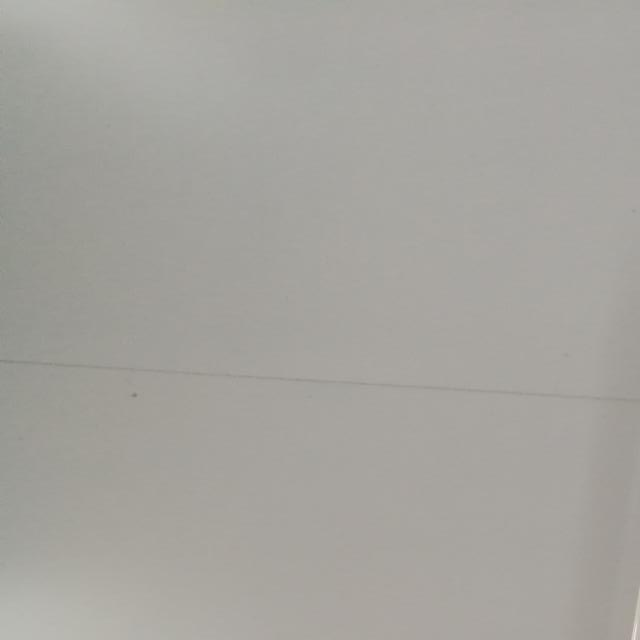fluorescent tube: (514, 195, 640, 640)
